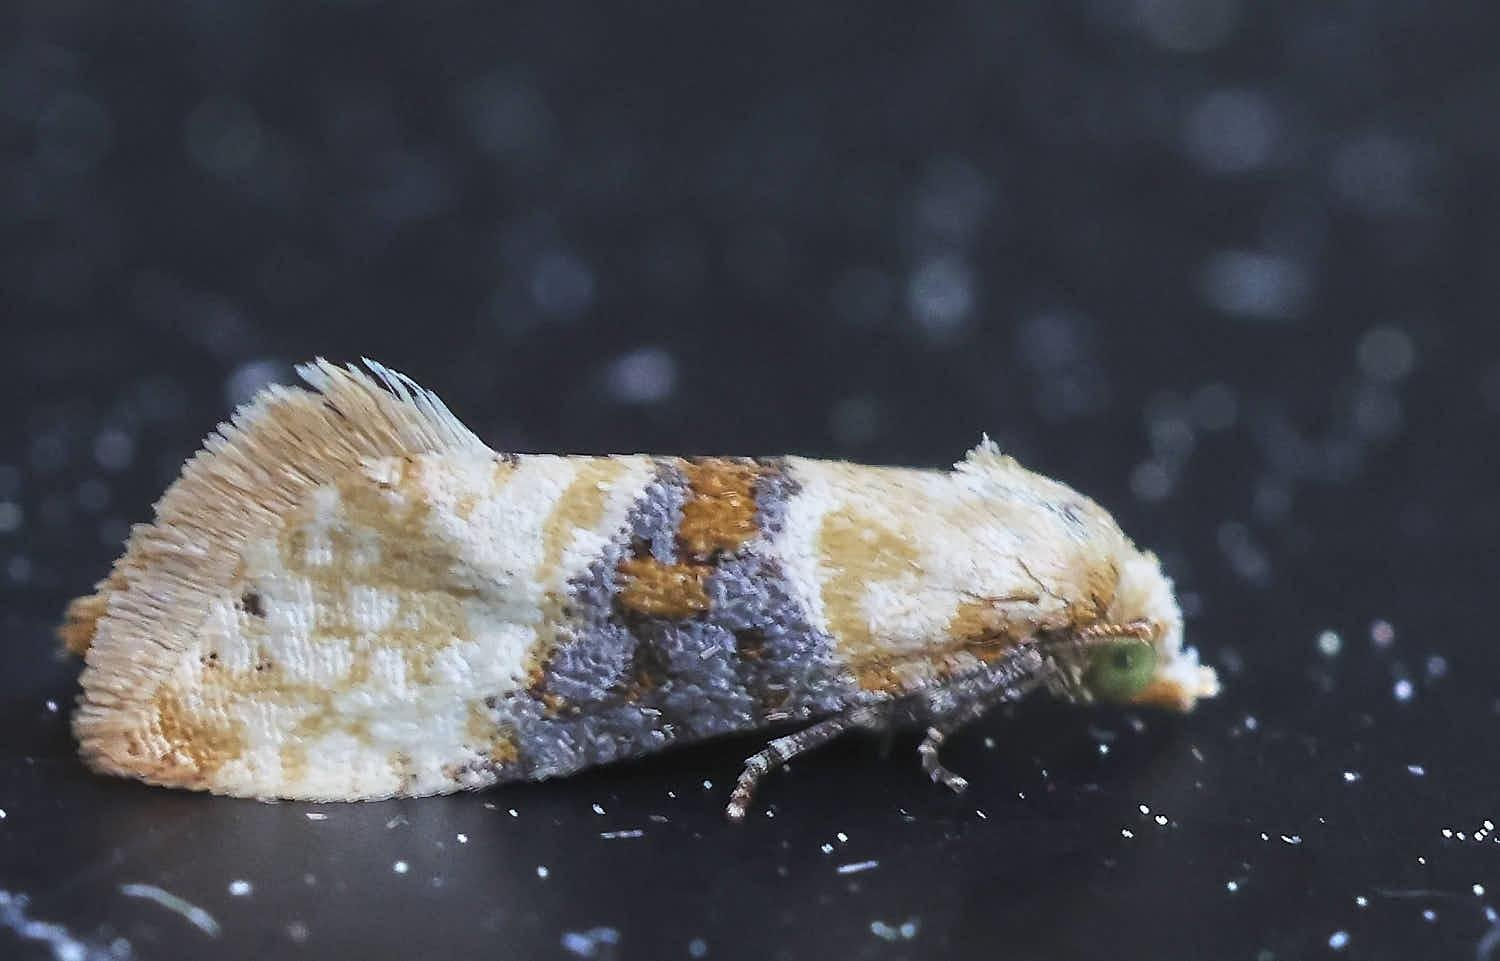Eupoecilia Ambiguella: (57, 351, 1222, 823)
